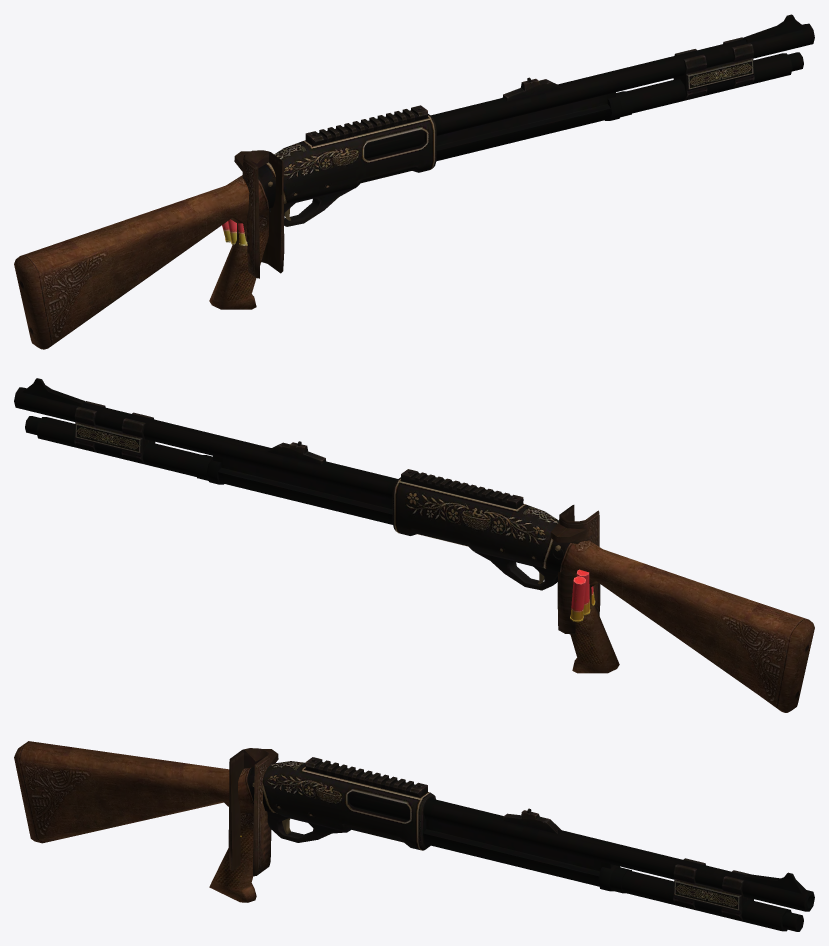
The model's file is 870MCS_W.obj.
The picture shows the model from 3 angles, top to bottom: view 1: azimuth 30°, elevation 25°; view 2: azimuth 150°, elevation 25°; view 3: azimuth 330°, elevation 25°; orthographic projection.
Parts seen in each view (by area): view 1: Model_870MCS, Model_Handle; view 2: Model_870MCS, Model_Handle, MergedGeo; view 3: Model_870MCS, Model_Handle.
Boxes of the visible parts, x1,y1,x2,y2 form: Model_870MCS: (14, 14, 814, 349); Model_Handle: (234, 150, 284, 278); Model_870MCS: (14, 378, 814, 712); Model_Handle: (550, 505, 600, 634); MergedGeo: (570, 569, 595, 622); Model_870MCS: (14, 741, 814, 931); Model_Handle: (228, 748, 278, 876).
Size of the model in its own units: 0.9543 by 0.1823 by 0.0654.
Materials: 2 (2 with a texture image).
